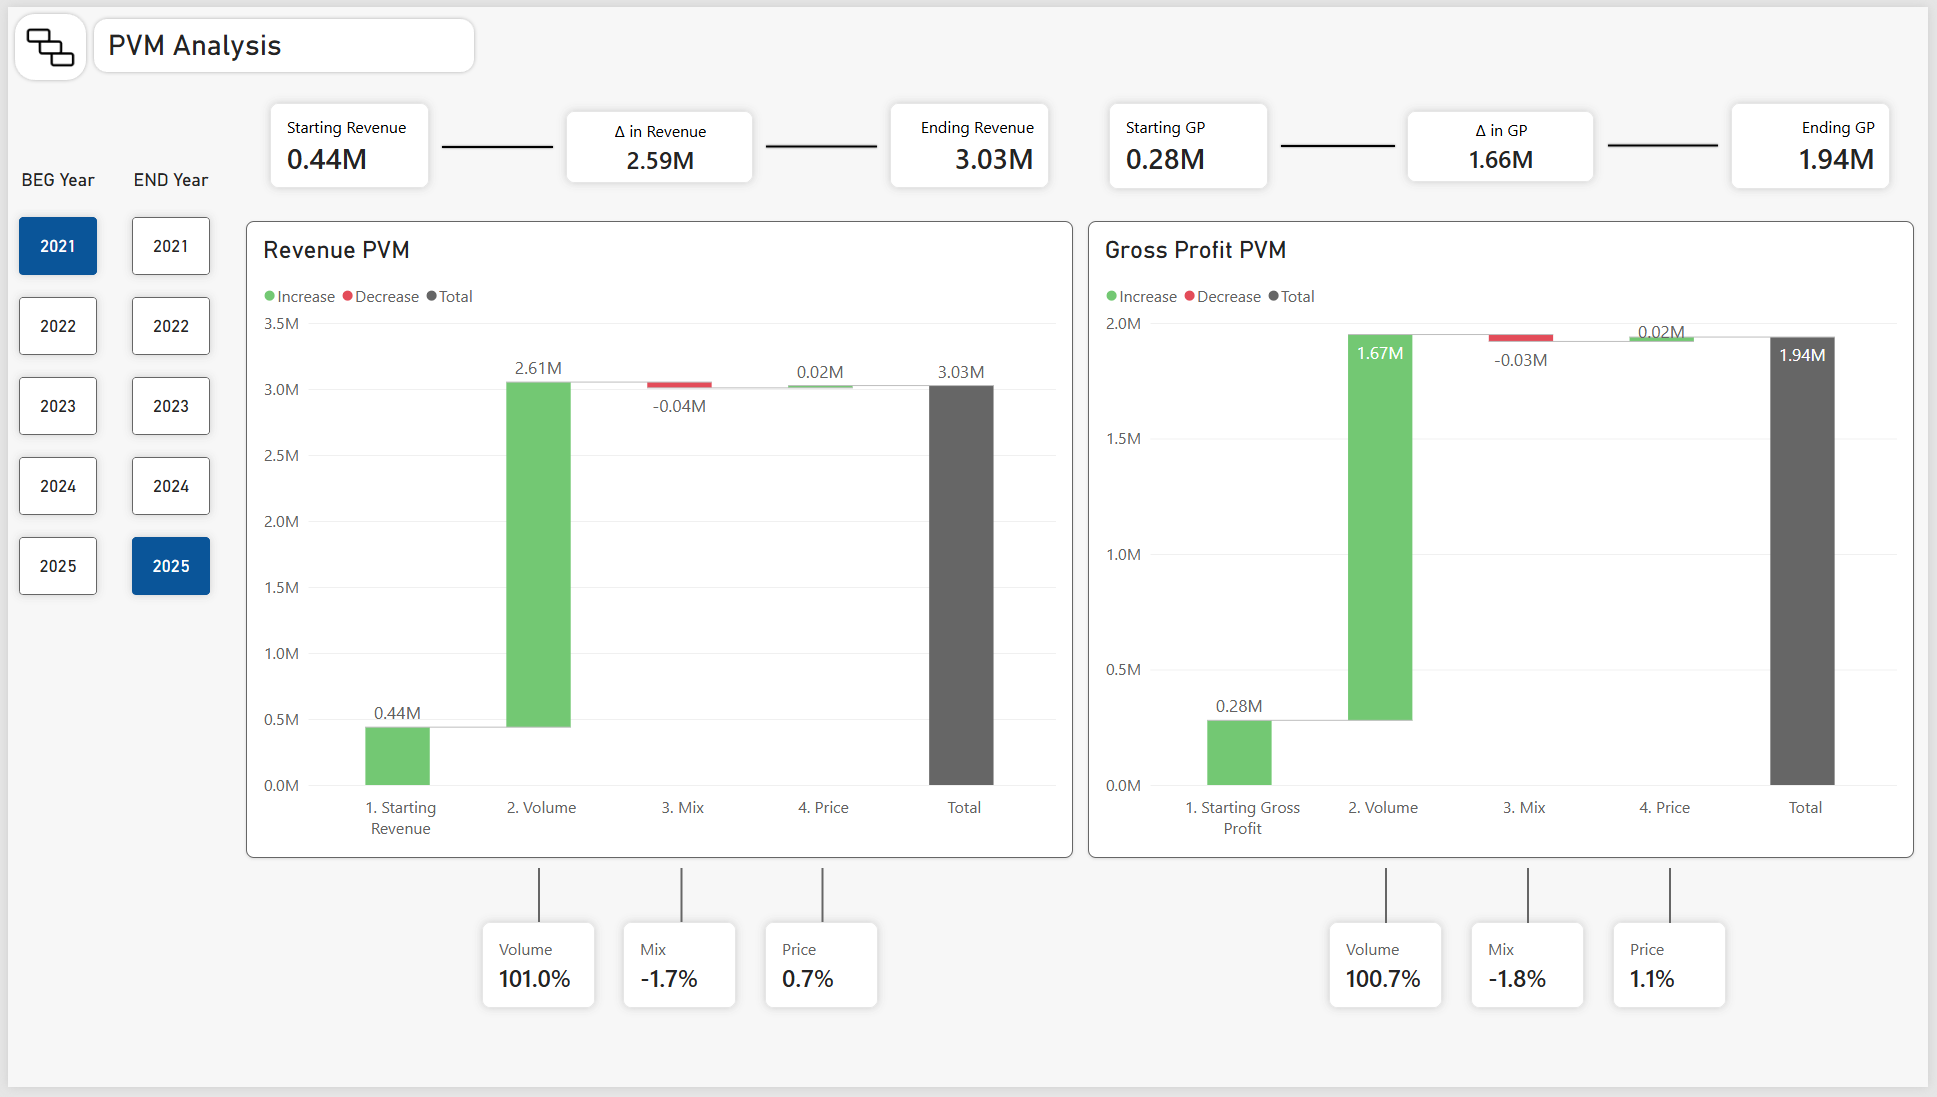

The dashboard page shown, as its layout file describes it:
{"tool":"powerbi","page":{"name":"PVM Analysis","canvas":[1920,1080],"ordinal":9},"visuals":[{"type":"shape","box":[2.5,2.8,79.2,74.6],"z":0},{"type":"shape","box":[82,7.9,388.3,61.3],"z":1000},{"type":"waterfallChart","title":"Revenue PVM","fields":{"Category":["PVM Steps.Step"],"Y":["PVM Steps.PVM Value"]},"box":[238.5,214.1,826.7,636.9],"z":2000},{"type":"cardVisual","fields":{"Data":["PVM Steps.PVM Ending Revenue"]},"box":[870.7,85.2,181,107],"z":3000},{"type":"textbox","box":[99.8,20.8,350.8,39.5],"z":4000},{"type":"advancedSlicerVisual","title":"BEG Year","fields":{"Values":["Year1 Selector.Year"]},"box":[0,162.2,100,440],"z":5000},{"type":"advancedSlicerVisual","title":"END Year","fields":{"Values":["Year2 Selector.Year"]},"box":[113.3,162.2,100,440],"z":6000},{"type":"waterfallChart","title":"Gross Profit PVM","fields":{"Y":["PVM Steps.PVM GP Value"],"Category":["PVM GP Steps.Step"]},"box":[1079.7,214.1,826.7,636.9],"z":7000},{"type":"cardVisual","fields":{"Data":["PVM Steps.GP Volume as Percent"]},"box":[1310.1,904,135,107.6],"z":8000},{"type":"cardVisual","fields":{"Data":["PVM Steps.GP Mix as Percent"]},"box":[1452.2,904,135,107.6],"z":9000},{"type":"cardVisual","fields":{"Data":["PVM Steps.GP Price as Percent"]},"box":[1594.2,904,135,107.6],"z":10000},{"type":"cardVisual","fields":{"Data":["PVM Steps.Volume as Percent"]},"box":[463.3,904.4,135,107.6],"z":11000},{"type":"cardVisual","fields":{"Data":["PVM Steps.Mix as Percent"]},"box":[604.4,904.4,135,107.6],"z":12000},{"type":"cardVisual","fields":{"Data":["PVM Steps.Price as Percent"]},"box":[745.6,904.4,135,107.6],"z":13000},{"type":"cardVisual","fields":{"Data":["PVM Steps.PVM Starting Revenue"]},"box":[251.1,85,181,107],"z":14000},{"type":"cardVisual","fields":{"Data":["PVM Steps.PVM Change in Revenue"]},"box":[547,93.4,209,93.4],"z":15000},{"type":"shape","box":[755.6,121.1,115.6,36.7],"z":16000},{"type":"shape","box":[432.2,121.1,114.4,37.8],"z":17000},{"type":"cardVisual","fields":{"Data":["PVM Steps.PVM GP Ending"]},"box":[1712.2,85,181,107.8],"z":18000},{"type":"cardVisual","fields":{"Data":["PVM Steps.PVM GP Starting"]},"box":[1090,85,181.1,107.8],"z":19000},{"type":"cardVisual","fields":{"Data":["PVM Steps.PVM Change in GP"]},"box":[1388.4,93,209,93.4],"z":20000},{"type":"shape","box":[1597.8,120,114.4,36.7],"z":21000},{"type":"shape","box":[1271.1,120,117.8,37.8],"z":22000},{"type":"shape","box":[483.3,861,95.6,54.4],"z":23000},{"type":"shape","box":[625.6,861,95.6,54],"z":24000},{"type":"shape","box":[766.8,861,95,54],"z":25000},{"type":"shape","box":[1330,861.1,95.6,54.4],"z":26000},{"type":"shape","box":[1472.2,861.1,95.6,54.4],"z":27000},{"type":"shape","box":[1614.4,861.1,95.6,54.4],"z":28000},{"type":"image","box":[6.9,11.9,71.1,57.3],"z":29000}]}

Visuals, with their boxes in screenshot pixels (x1, y1, x2, y2), scaled from the page's 1920x1080 canvas onto the 1937x1097 screenshot:
shape: select_region(3, 3, 82, 79)
shape: select_region(83, 8, 474, 70)
"Revenue PVM" waterfallChart: select_region(241, 217, 1075, 864)
cardVisual - PVM Steps.PVM Ending Revenue: select_region(878, 87, 1061, 195)
textbox: select_region(101, 21, 455, 61)
"BEG Year" advancedSlicerVisual: select_region(0, 165, 101, 612)
"END Year" advancedSlicerVisual: select_region(114, 165, 215, 612)
"Gross Profit PVM" waterfallChart: select_region(1089, 217, 1923, 864)
cardVisual - PVM Steps.GP Volume as Percent: select_region(1322, 918, 1458, 1028)
cardVisual - PVM Steps.GP Mix as Percent: select_region(1465, 918, 1601, 1028)
cardVisual - PVM Steps.GP Price as Percent: select_region(1608, 918, 1745, 1028)
cardVisual - PVM Steps.Volume as Percent: select_region(467, 919, 604, 1028)
cardVisual - PVM Steps.Mix as Percent: select_region(610, 919, 746, 1028)
cardVisual - PVM Steps.Price as Percent: select_region(752, 919, 888, 1028)
cardVisual - PVM Steps.PVM Starting Revenue: select_region(253, 86, 436, 195)
cardVisual - PVM Steps.PVM Change in Revenue: select_region(552, 95, 763, 190)
shape: select_region(762, 123, 879, 160)
shape: select_region(436, 123, 551, 161)
cardVisual - PVM Steps.PVM GP Ending: select_region(1727, 86, 1910, 196)
cardVisual - PVM Steps.PVM GP Starting: select_region(1100, 86, 1282, 196)
cardVisual - PVM Steps.PVM Change in GP: select_region(1401, 94, 1612, 189)
shape: select_region(1612, 122, 1727, 159)
shape: select_region(1282, 122, 1401, 160)
shape: select_region(488, 875, 584, 930)
shape: select_region(631, 875, 728, 929)
shape: select_region(774, 875, 869, 929)
shape: select_region(1342, 875, 1438, 930)
shape: select_region(1485, 875, 1582, 930)
shape: select_region(1629, 875, 1725, 930)
image: select_region(7, 12, 79, 70)
